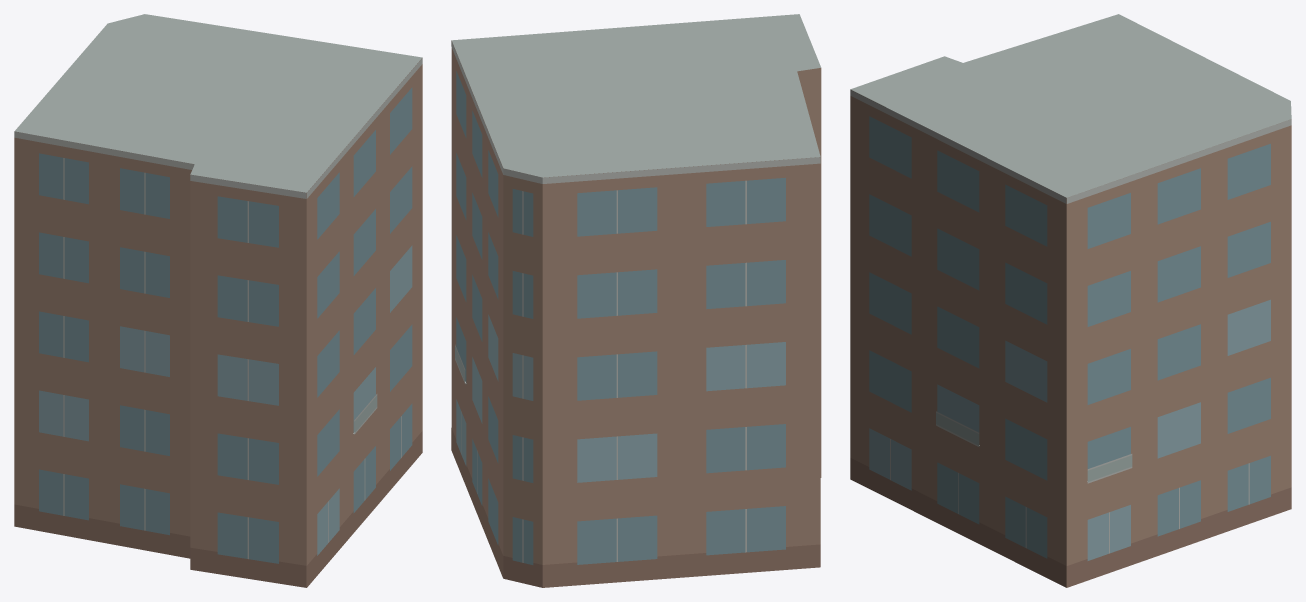
File: survey-upis-32933907.glb
3 renders of one model, left to right at view 1: azimuth 30°, elevation 25°; view 2: azimuth 150°, elevation 25°; view 3: azimuth 270°, elevation 25°, orthographic. The views are drawn at different scales.
Visible parts, largest first — view 1: survey-upis-32933907.tmp; view 2: survey-upis-32933907.tmp; view 3: survey-upis-32933907.tmp.
Part boxes in pixels (left/top/right/bottom): survey-upis-32933907.tmp: left=14, top=14, right=422, bottom=587; survey-upis-32933907.tmp: left=451, top=14, right=821, bottom=587; survey-upis-32933907.tmp: left=850, top=14, right=1291, bottom=587.
Size of the model in its own units: 15.43 by 15.25 by 15.65.
